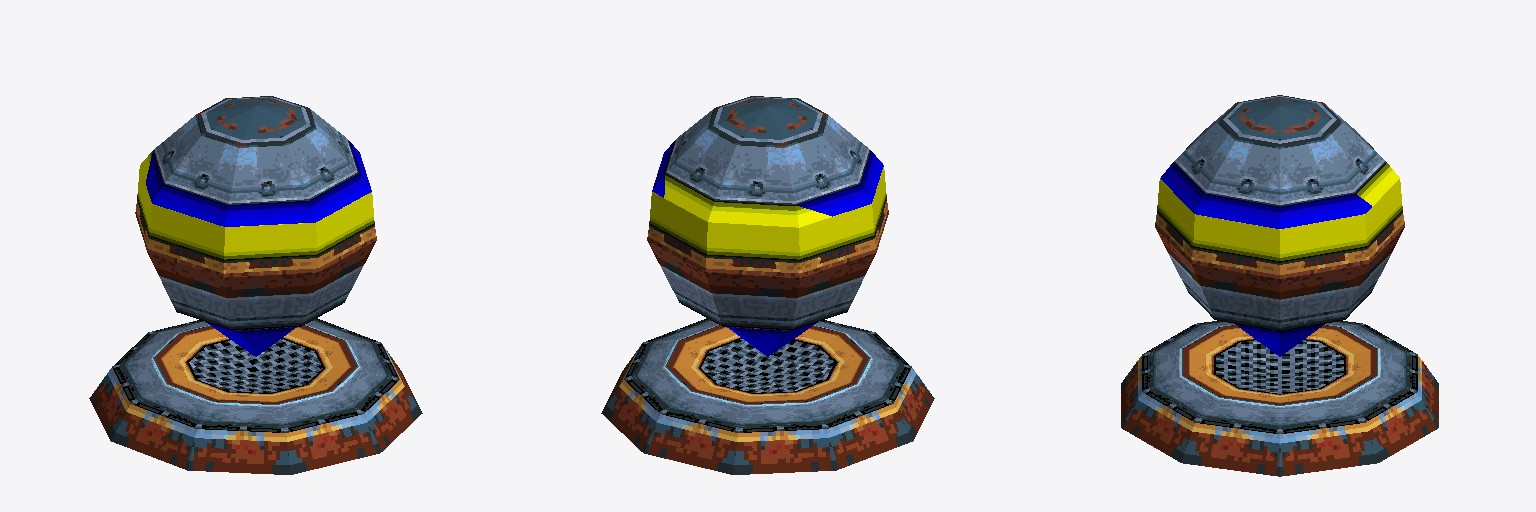
The picture shows the model from 3 angles: view 1: azimuth 30°, elevation 25°; view 2: azimuth 150°, elevation 25°; view 3: azimuth 270°, elevation 25°; orthographic projection.
Parts seen in each view (by area): view 1: Dummy002, Dummy004, switch_on, switch_off; view 2: Dummy002, Dummy004, switch_on, switch_off; view 3: Dummy002, Dummy004, switch_on, switch_off.
Boxes of the visible parts, x1=… form: Dummy002: x1=89, y1=318, x2=422, y2=474; Dummy004: x1=135, y1=96, x2=376, y2=330; switch_on: x1=137, y1=151, x2=374, y2=260; switch_off: x1=146, y1=141, x2=371, y2=356; Dummy002: x1=601, y1=318, x2=934, y2=474; Dummy004: x1=647, y1=96, x2=888, y2=330; switch_on: x1=649, y1=157, x2=886, y2=260; switch_off: x1=652, y1=141, x2=883, y2=356; Dummy002: x1=1121, y1=321, x2=1438, y2=476; Dummy004: x1=1155, y1=95, x2=1404, y2=331; switch_on: x1=1157, y1=162, x2=1402, y2=262; switch_off: x1=1160, y1=162, x2=1371, y2=356.
Size of the model in its own units: 18.65 by 18.42 by 17.74.
4 materials, 3 textured.